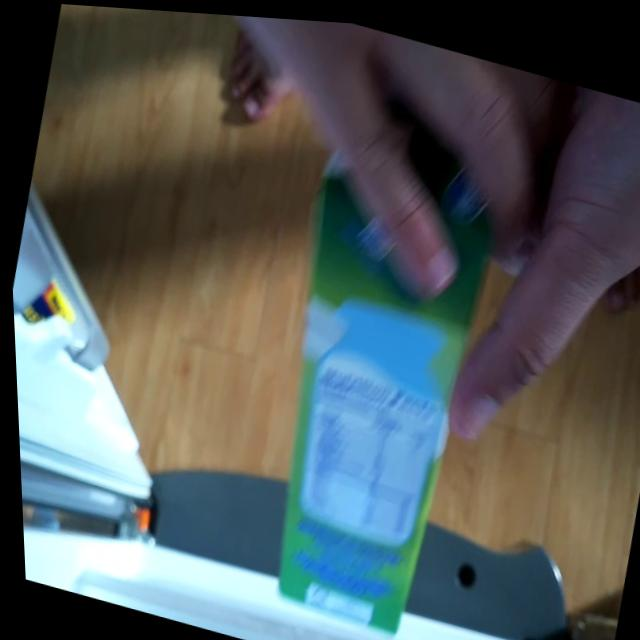milk: (224, 97, 531, 640)
